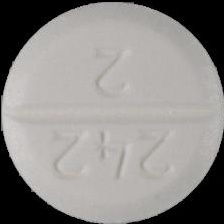55289-594: (0, 0, 224, 224)
